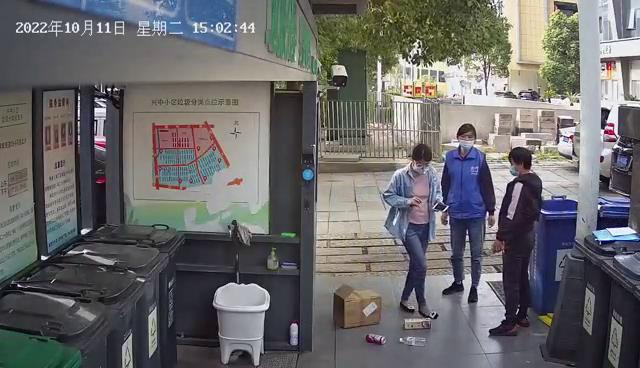lvzhipin: (363, 332, 387, 346)
person: (486, 144, 544, 339)
suliaozhipin: (397, 334, 431, 349)
worker: (379, 142, 449, 322), (437, 122, 500, 309)
zhizhipin: (331, 282, 384, 330), (401, 316, 435, 333)
